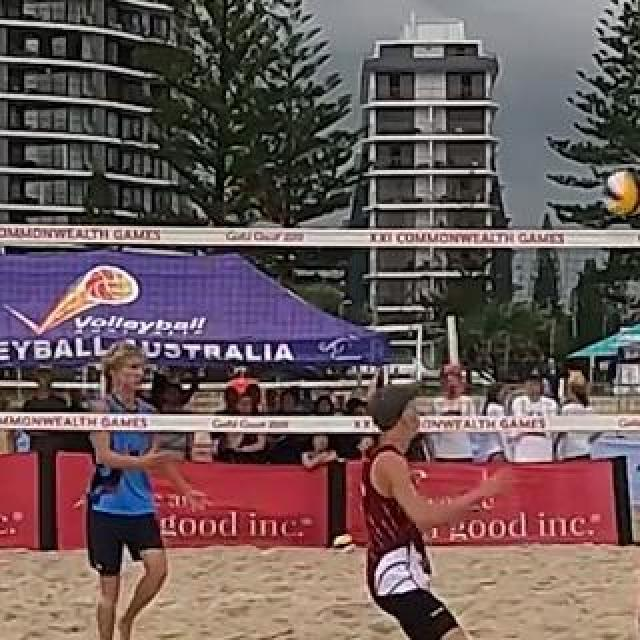volleyball: (605, 171, 639, 217)
